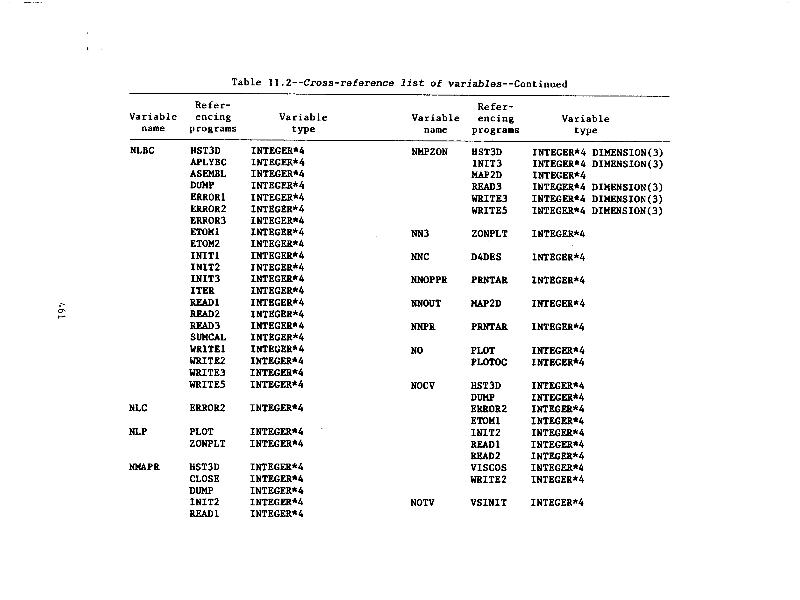table: (126, 93, 675, 591)
